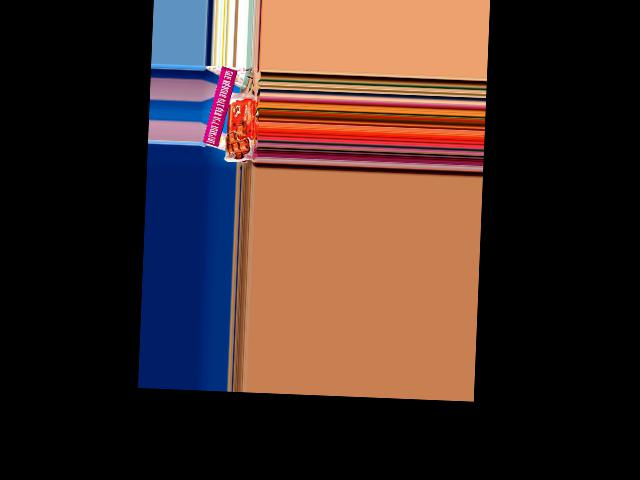chocolate: (223, 90, 257, 164)
